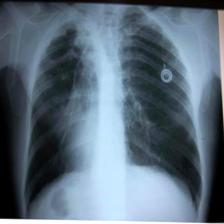tuberculosis: (18, 6, 209, 220)
